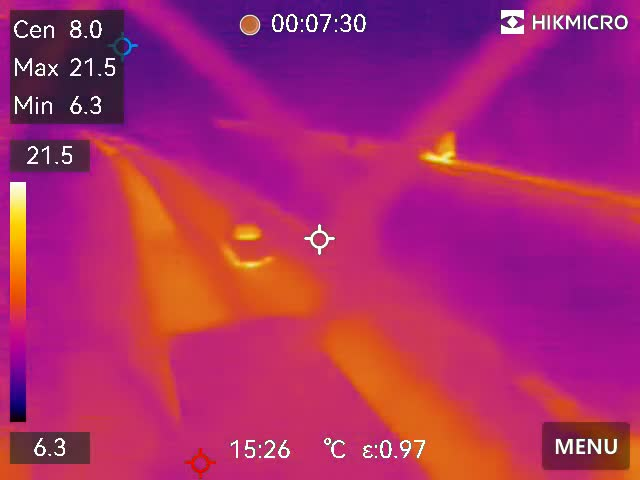vehicle: (219, 215, 282, 272)
